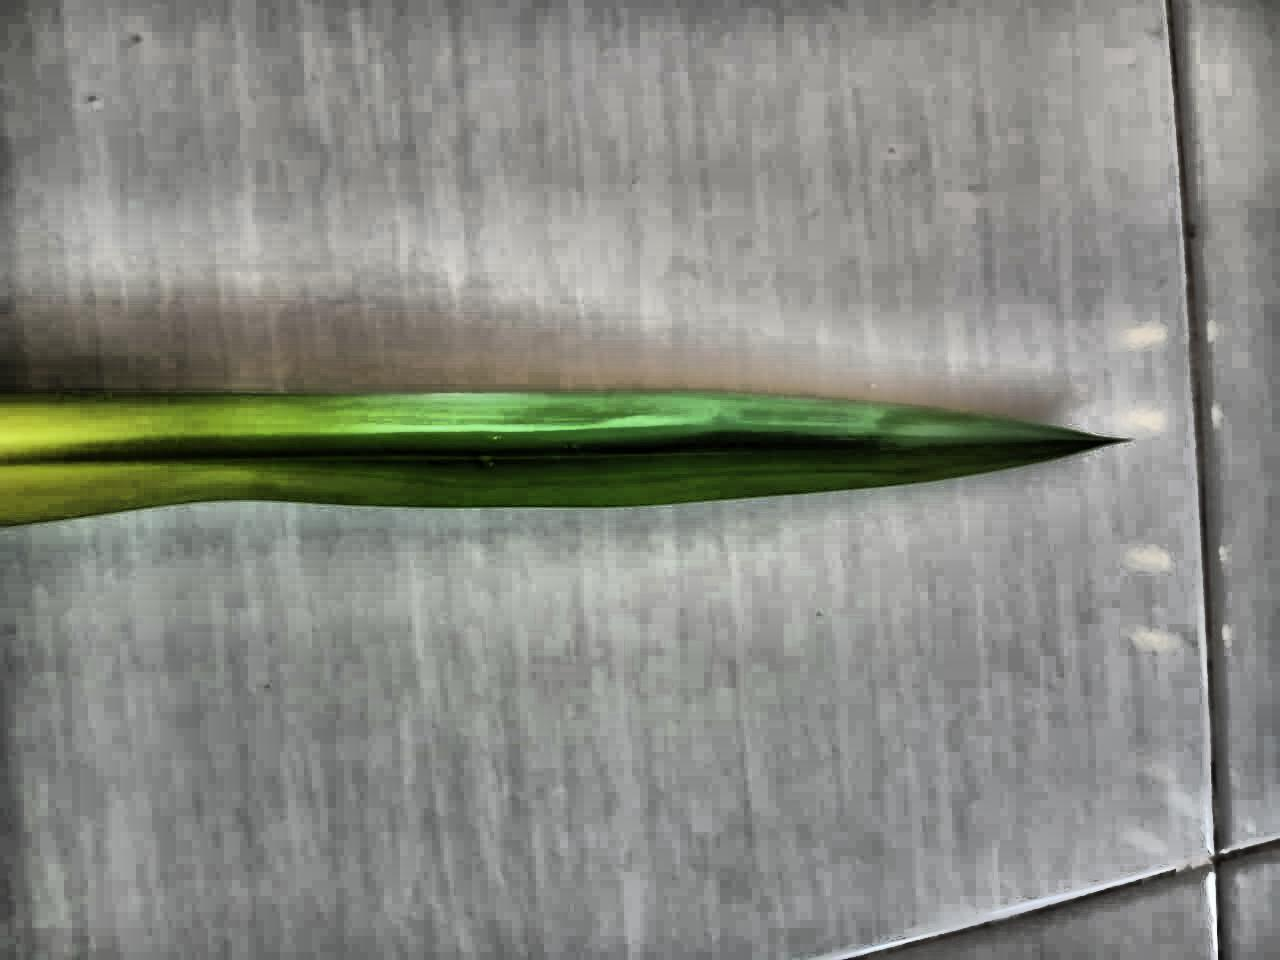daun pandan: (0, 393, 1119, 526)
